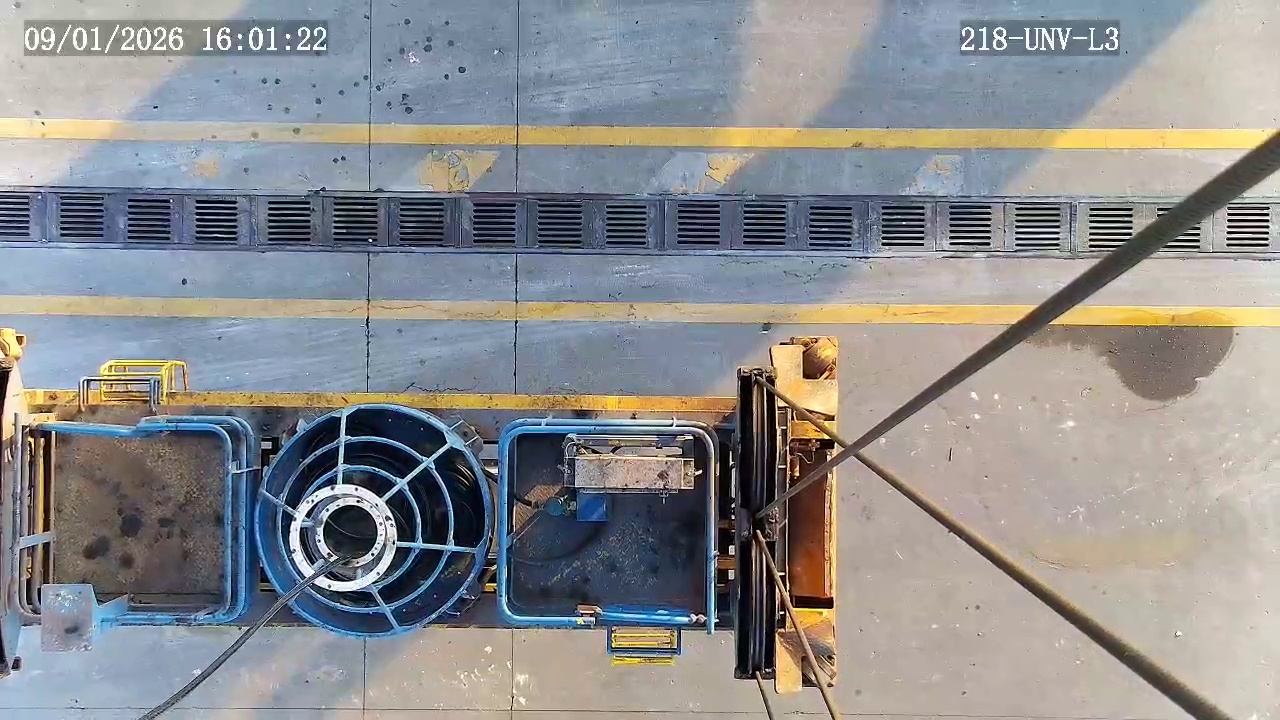right: (253, 407, 489, 636)
